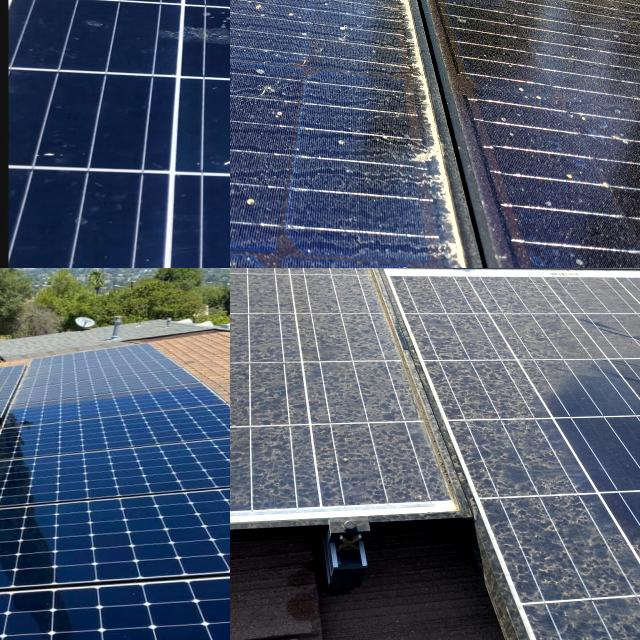bird: (168, 135, 230, 231)
crack: (0, 495, 230, 638), (0, 422, 230, 515), (0, 507, 161, 619), (0, 395, 230, 455), (0, 467, 167, 535)
dust: (370, 0, 499, 268), (230, 27, 338, 250), (240, 390, 425, 480), (492, 463, 600, 607), (430, 282, 538, 424), (553, 0, 640, 168), (240, 268, 363, 374), (557, 288, 640, 434), (230, 268, 314, 369), (230, 390, 300, 508), (515, 0, 640, 54), (386, 268, 549, 303), (230, 0, 335, 54), (562, 200, 640, 268), (340, 268, 471, 307), (311, 268, 466, 296), (230, 268, 324, 304), (230, 0, 350, 27), (230, 268, 310, 302), (250, 268, 343, 296), (511, 268, 581, 295), (626, 544, 640, 637)
